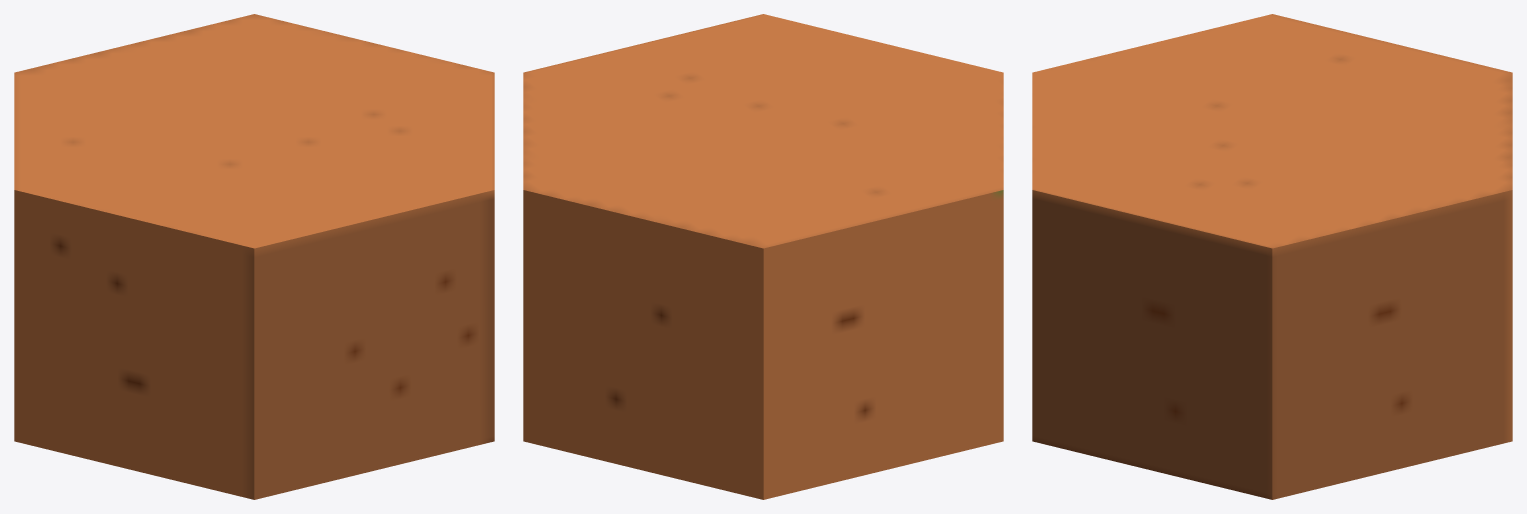
The model's file is groundMud.dae.
The picture shows the model from 3 angles, left to right: view 1: azimuth 30°, elevation 25°; view 2: azimuth 150°, elevation 25°; view 3: azimuth 270°, elevation 25°; orthographic projection.
Visible parts, largest first — view 1: groundMud; view 2: groundMud; view 3: groundMud.
Part boxes in pixels (bbox=[...]): groundMud: bbox=[14, 14, 494, 499]; groundMud: bbox=[523, 14, 1003, 499]; groundMud: bbox=[1032, 14, 1512, 499].
Bounding box in the file's own units: 100 × 50 × 86.6.
1 material, 1 textured.
